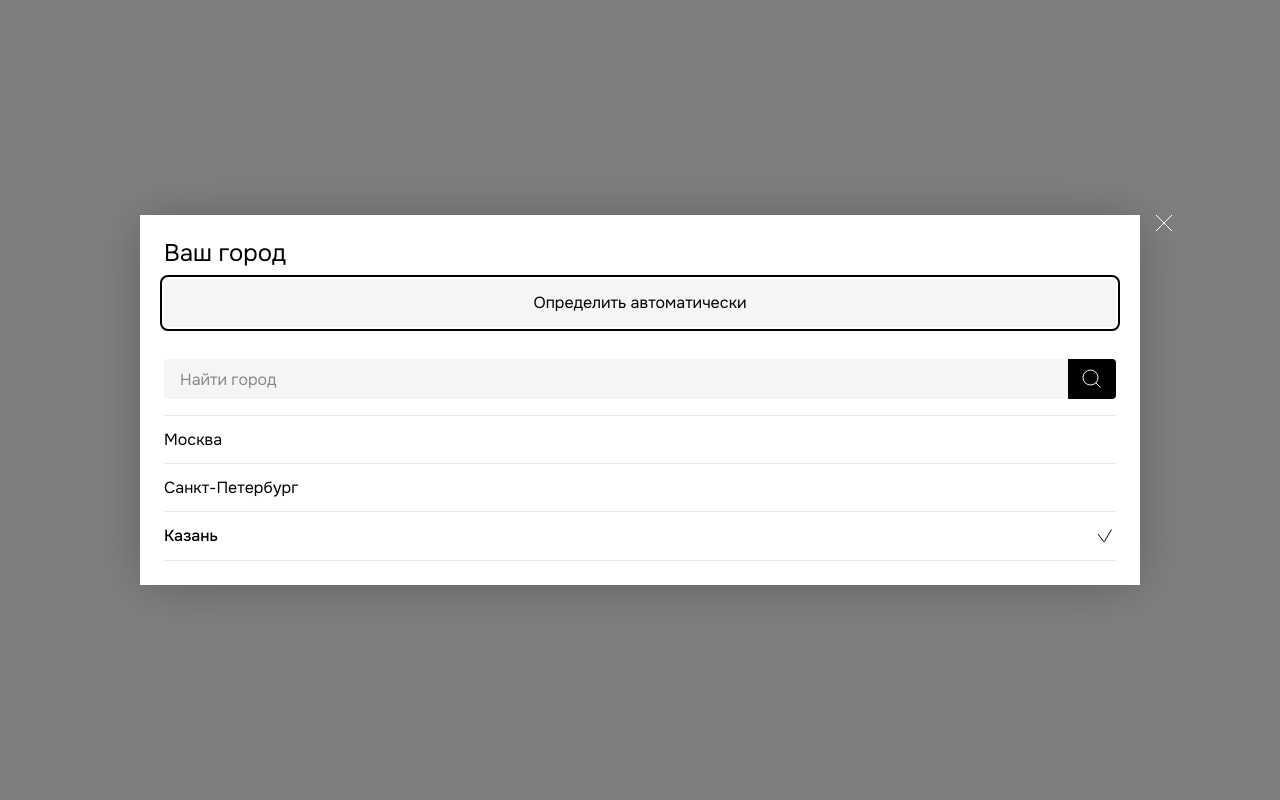
Test: CityModal automatic search › says so when the position is far from every store, keeping the city
Click the button "Определить автоматически": [640, 303] box [164,279,1116,327]
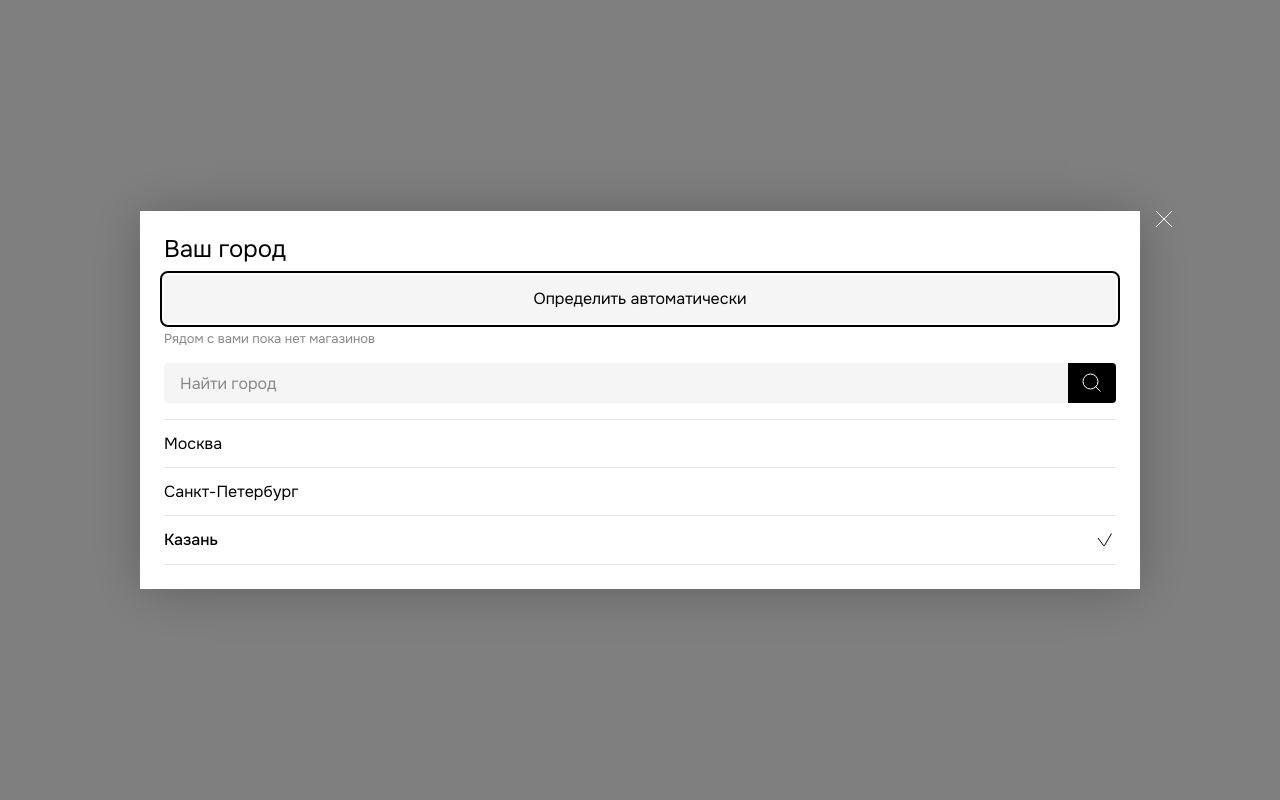
Expected: the text "Казань" is shown, [164,530,218,550]
Now the message reads "Рядом с вами пока нет магазинов", box [164,330,375,347]
